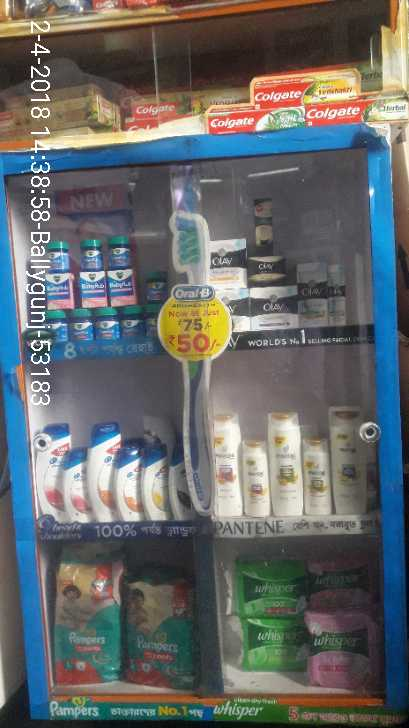vicks: (36, 239, 173, 314)
